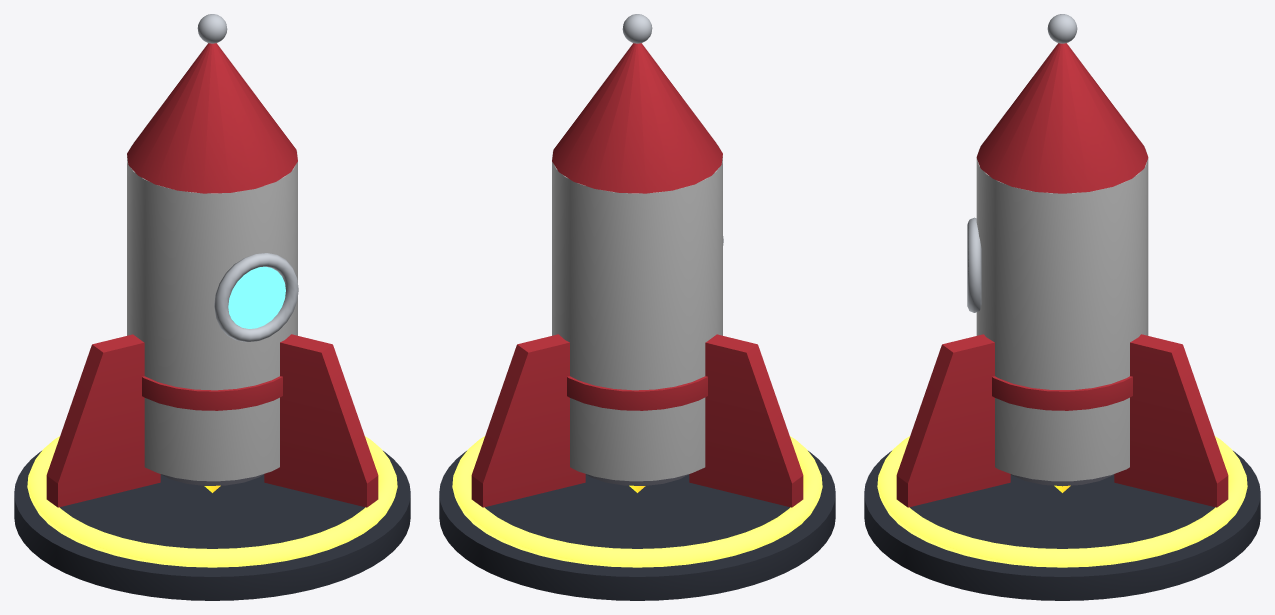
The model's file is launch-rocket.glb.
3 views of the same model, side by side, from view 1: azimuth 30°, elevation 25°; view 2: azimuth 150°, elevation 25°; view 3: azimuth 270°, elevation 25° (orthographic).
Visible parts, largest first — view 1: launch-rocket-solid, launch-rocket-glow (×2), launch-rocket-metal; view 2: launch-rocket-solid, launch-rocket-glow, launch-rocket-metal; view 3: launch-rocket-solid, launch-rocket-glow, launch-rocket-metal.
Boxes of the visible parts, box(x1,y1,x2,y2) form: launch-rocket-solid: box(14, 43, 410, 600); launch-rocket-glow (×2): box(27, 266, 397, 567); launch-rocket-metal: box(197, 14, 298, 341); launch-rocket-solid: box(439, 43, 835, 600); launch-rocket-glow: box(452, 436, 822, 567); launch-rocket-metal: box(622, 14, 723, 245); launch-rocket-solid: box(864, 43, 1260, 600); launch-rocket-glow: box(877, 436, 1247, 567); launch-rocket-metal: box(967, 14, 1077, 312).
Bounding box in the file's own units: 0.4795 × 0.6696 × 0.4795.
